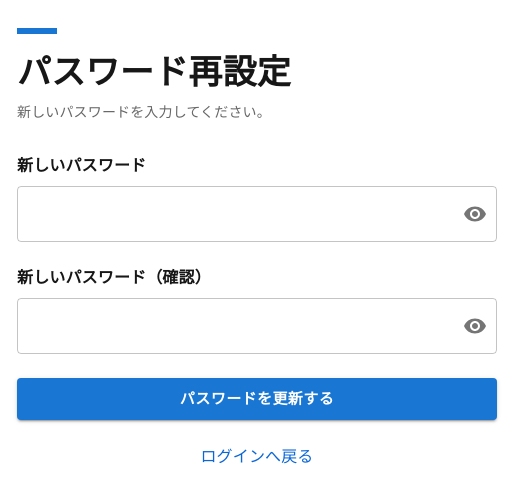
Test: PasswordReset Presenter › トークンが有効なとき › 確認用パスワードが一致しないとエラーが表示される
Type "password123" into the 1st password field named "password".
click(232, 214); type("password123")  # box [17,186,447,242]
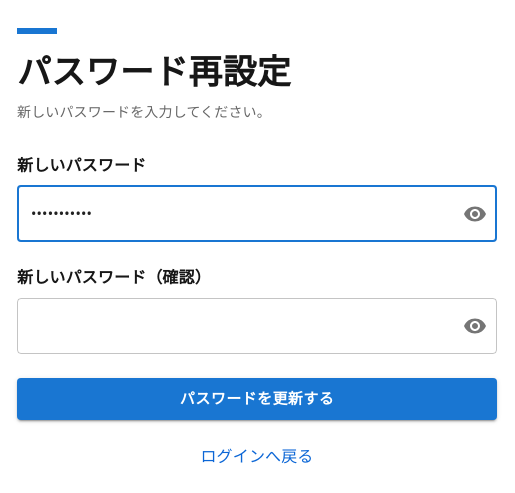
Type "different123" into the password field named "password_confirmation" below "新しいパスワード（確認）".
click(232, 326); type("different123")  # box [17,298,447,354]
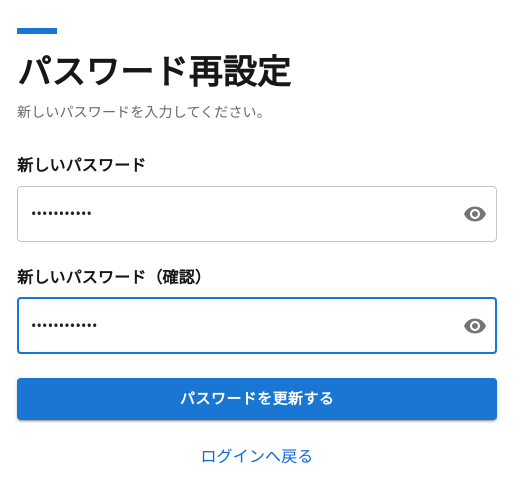
Click the button "パスワードを更新する".
click(257, 399)  # box [17,378,497,420]
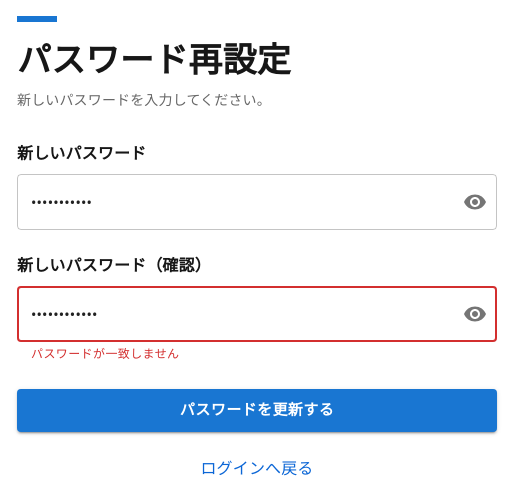
Expected: the text "パスワードが一致しません" is shown, [31,347,180,361]
